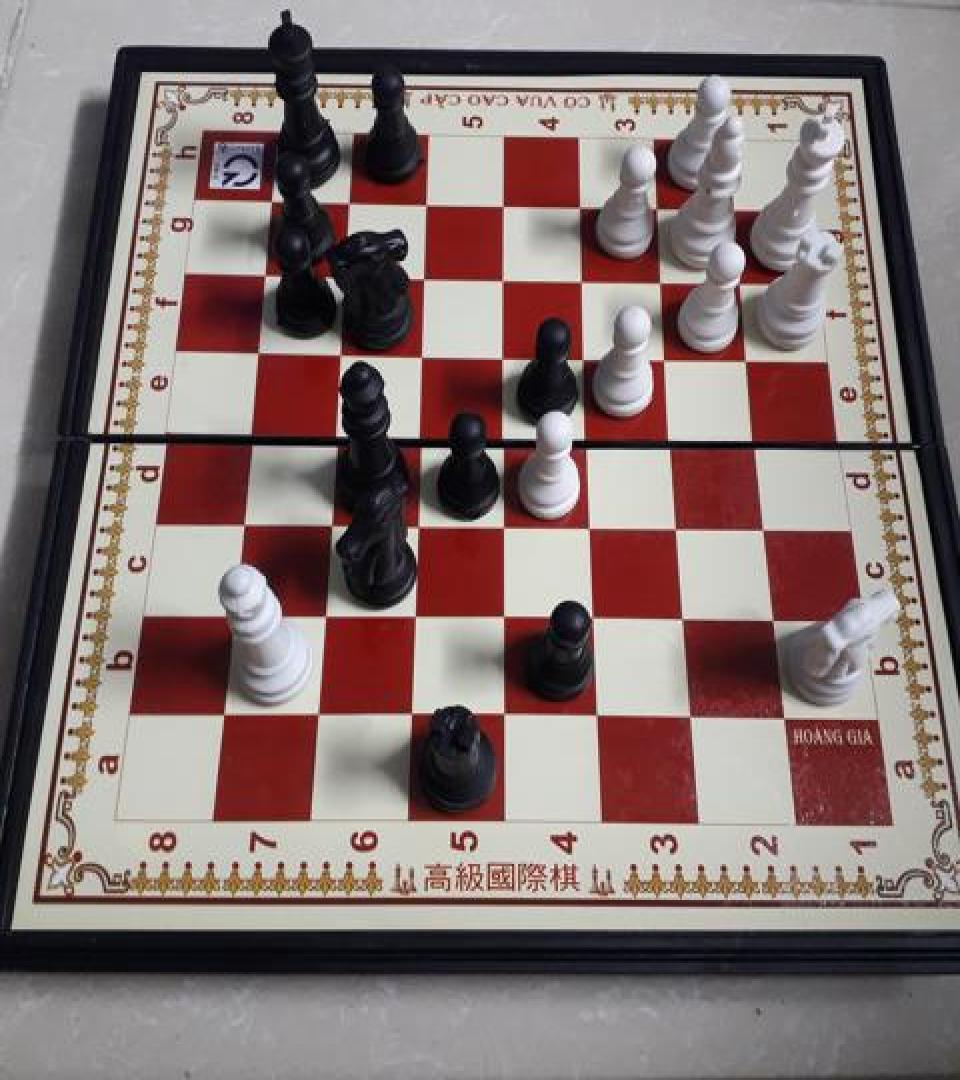xcorner: (209, 692, 241, 728), (303, 693, 335, 729), (397, 693, 429, 729), (491, 693, 523, 729), (584, 694, 616, 730), (677, 694, 709, 730), (770, 695, 802, 731), (219, 593, 251, 629), (310, 594, 342, 630), (401, 594, 433, 630), (491, 595, 523, 631), (582, 595, 614, 631), (672, 596, 704, 632), (761, 596, 793, 632), (228, 500, 260, 536), (316, 502, 348, 538), (404, 502, 436, 538), (492, 503, 524, 539), (579, 503, 611, 539), (666, 504, 698, 540), (753, 505, 785, 541), (237, 414, 269, 450), (322, 415, 354, 451), (407, 415, 439, 451), (492, 416, 524, 452), (577, 418, 609, 454), (661, 418, 693, 454), (745, 418, 777, 454), (245, 333, 277, 369), (328, 333, 360, 369), (410, 334, 442, 370), (492, 335, 524, 371), (574, 336, 606, 372), (656, 336, 688, 372), (738, 338, 770, 374), (253, 256, 285, 292), (333, 258, 365, 294), (413, 258, 445, 294), (493, 259, 525, 295), (572, 260, 604, 296), (652, 261, 684, 297), (731, 262, 763, 298), (260, 184, 292, 220), (338, 184, 370, 220), (493, 187, 525, 223), (570, 188, 602, 224), (647, 189, 679, 225), (724, 190, 756, 226), (415, 186, 447, 221)
